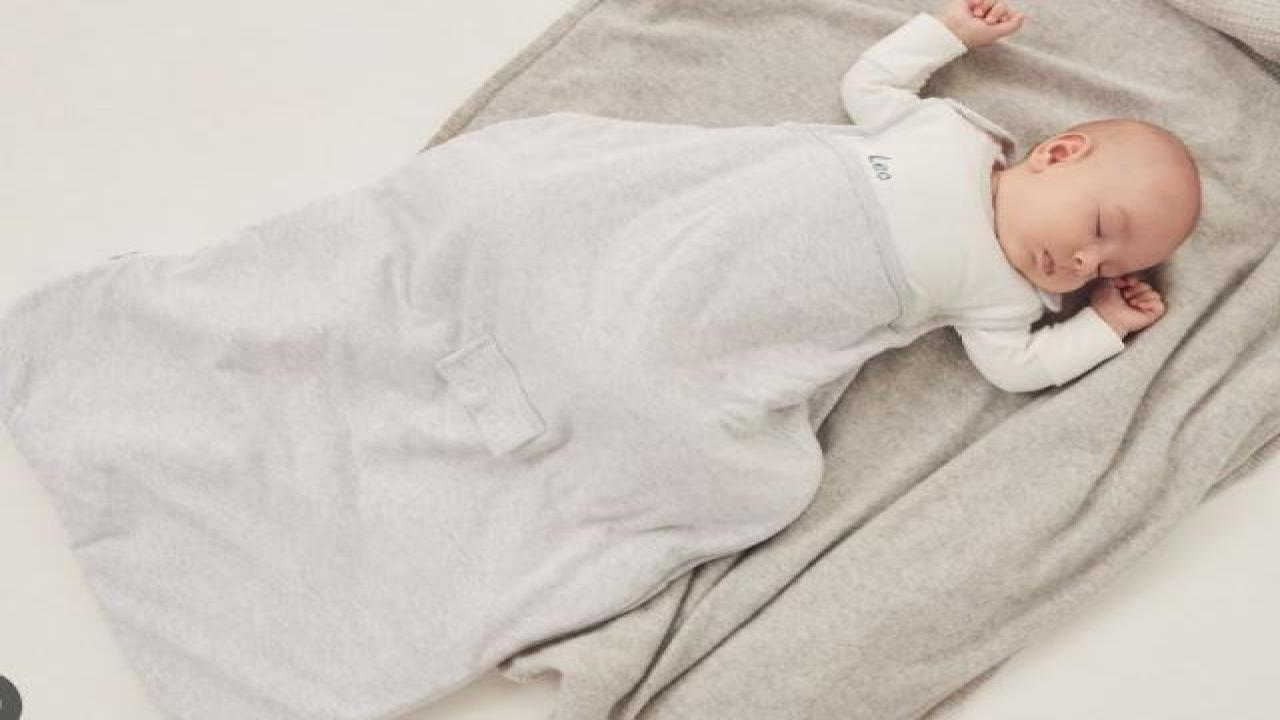hand: (1091, 271, 1173, 329), (944, 0, 1032, 42)
